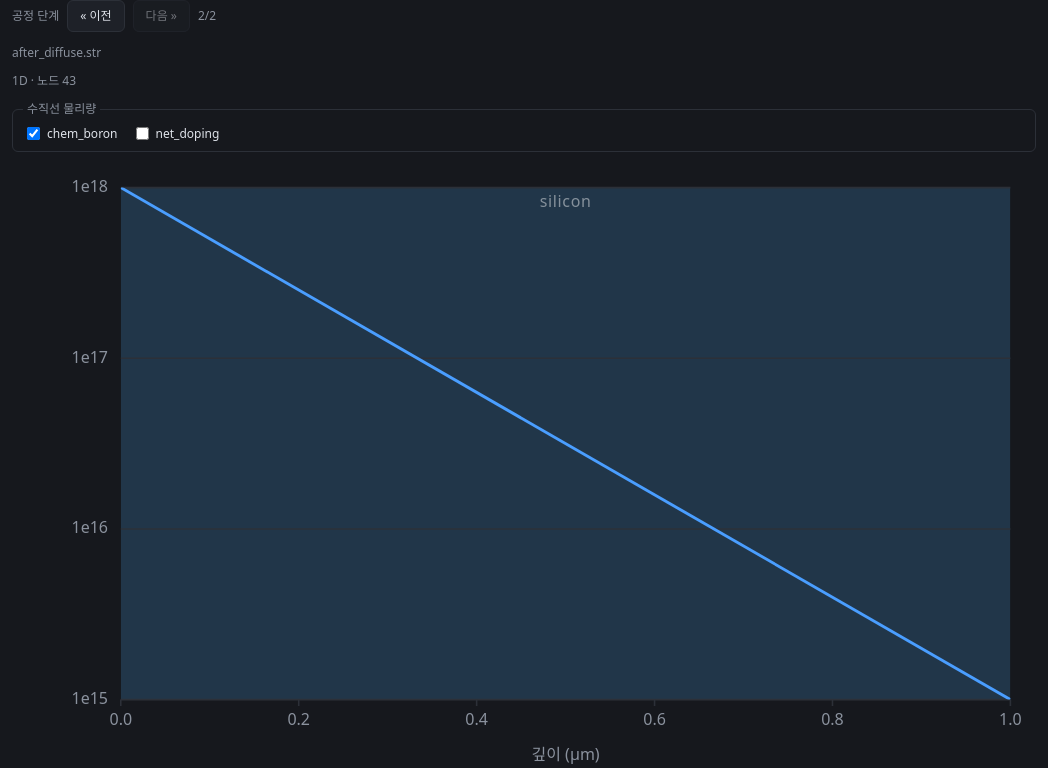
Scenario: 물리량 선택 › 둘 다 범례에 나온다
The image size is (1048, 768).
Click the checkbox labelled "net_doping".
click(142, 134)  # box x1=136 y1=127 x2=148 y2=140
(page scrolled)
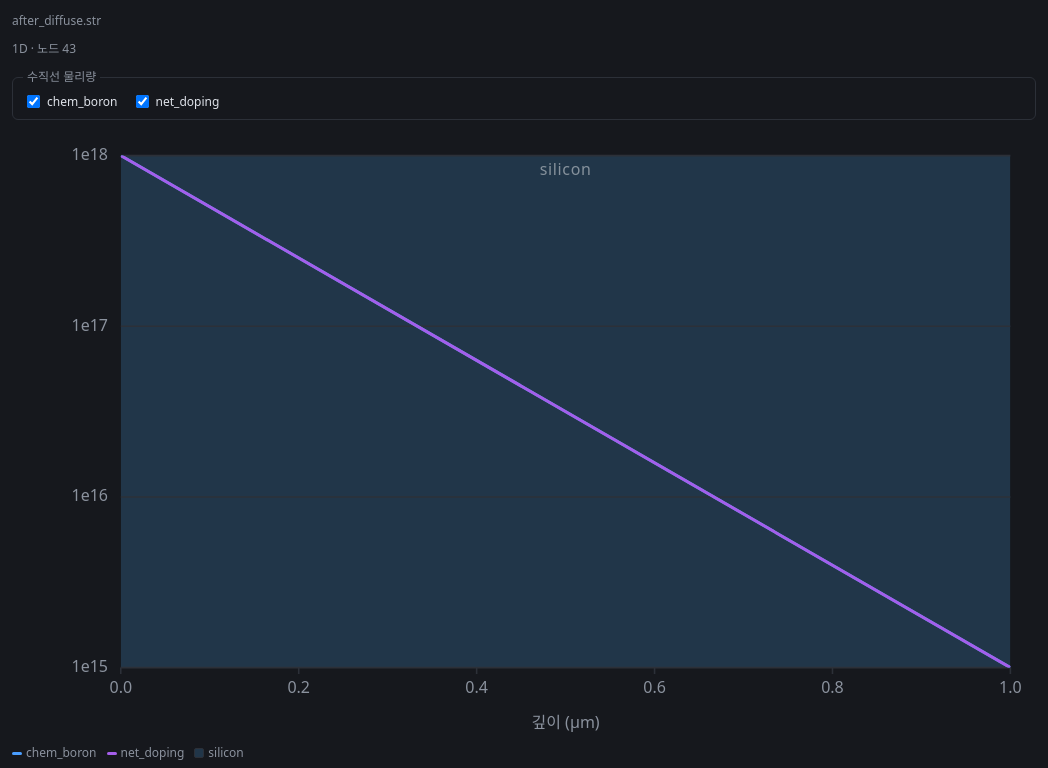
Expected: the element with class "legend" shows "chem_boron", x1=26 y1=744 x2=96 y2=761
Now the element with class "legend" shows "net_doping", box x1=120 y1=744 x2=184 y2=761
